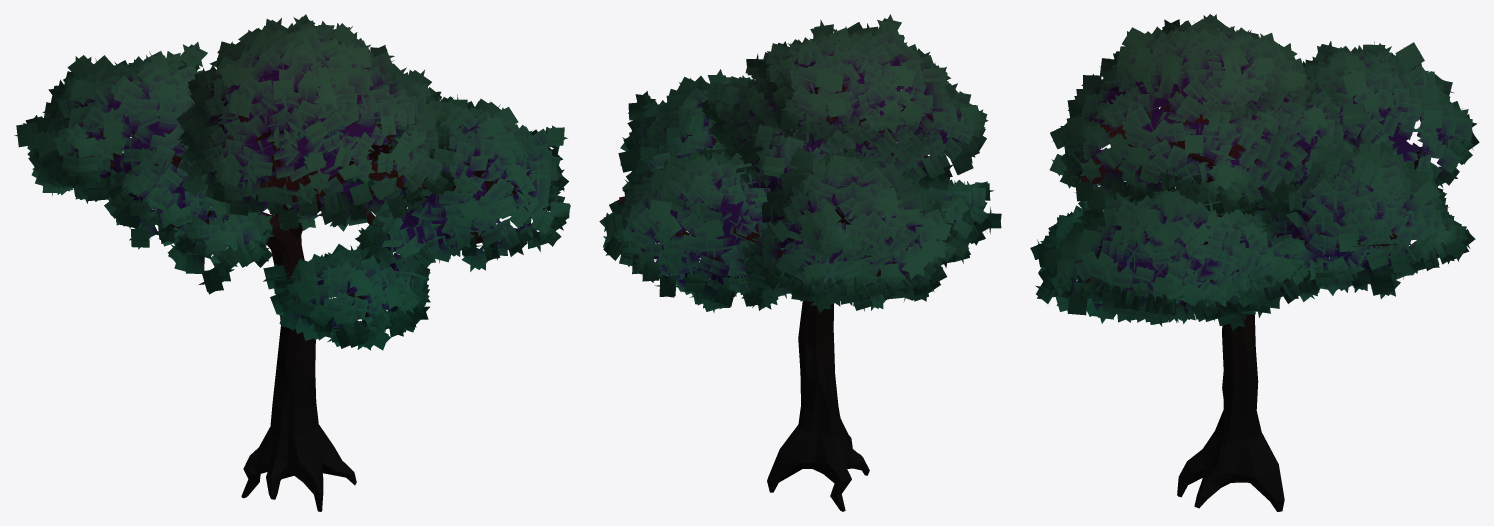
File: SM_Env_Tree_Forest_03.gltf
3 views of the same model, side by side, from view 1: azimuth 30°, elevation 25°; view 2: azimuth 150°, elevation 25°; view 3: azimuth 270°, elevation 25° (orthographic). The views are drawn at different scales.
Parts seen in each view (by area): view 1: SM_Env_Tree_Forest_03_LOD0, SM_Env_Tree_Forest_03_Branches_LOD0; view 2: SM_Env_Tree_Forest_03_LOD0, SM_Env_Tree_Forest_03_Branches_LOD0; view 3: SM_Env_Tree_Forest_03_LOD0, SM_Env_Tree_Forest_03_Branches_LOD0.
Boxes of the visible parts, x1,y1,x2,y2 form: SM_Env_Tree_Forest_03_LOD0: [14, 14, 570, 511]; SM_Env_Tree_Forest_03_Branches_LOD0: [76, 65, 517, 319]; SM_Env_Tree_Forest_03_LOD0: [599, 14, 1001, 511]; SM_Env_Tree_Forest_03_Branches_LOD0: [619, 83, 932, 276]; SM_Env_Tree_Forest_03_LOD0: [1030, 14, 1479, 511]; SM_Env_Tree_Forest_03_Branches_LOD0: [1079, 69, 1421, 282].
Size of what is drawn, in the model's own units: 9.64 by 10.11 by 8.67.
1 material, 1 textured.
